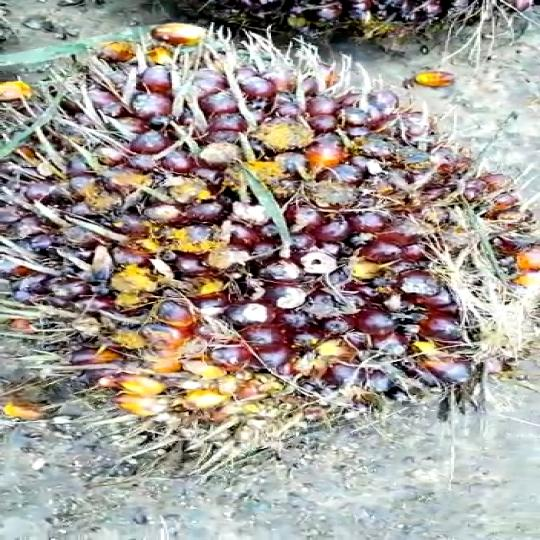masak: (0, 41, 540, 449)
